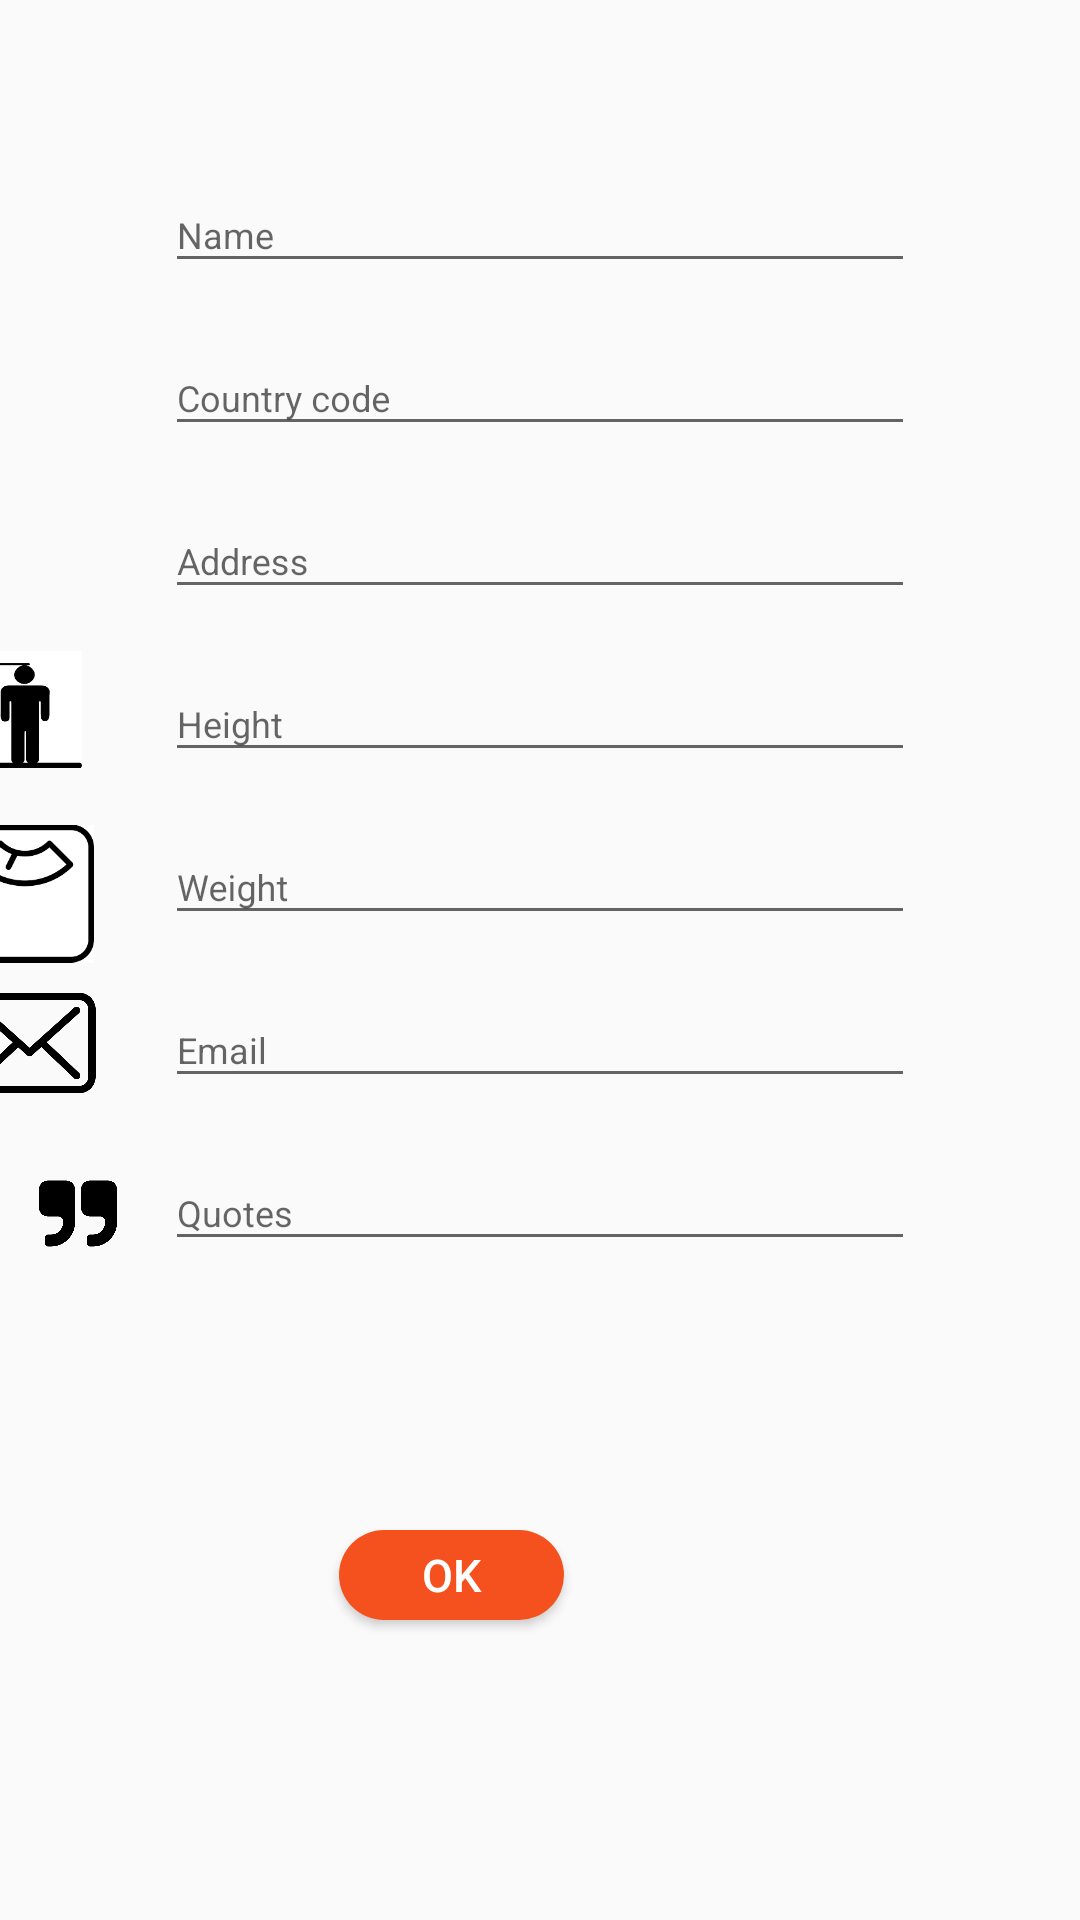

Screen size 1080px×1920px. Icon name, then its center in pixels as [x,y]:
quotes: [78,1213]
